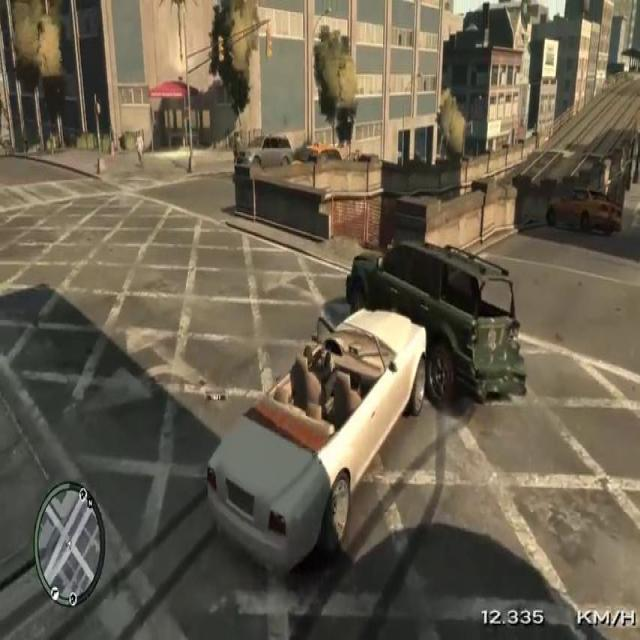moderate: (194, 225, 528, 591)
